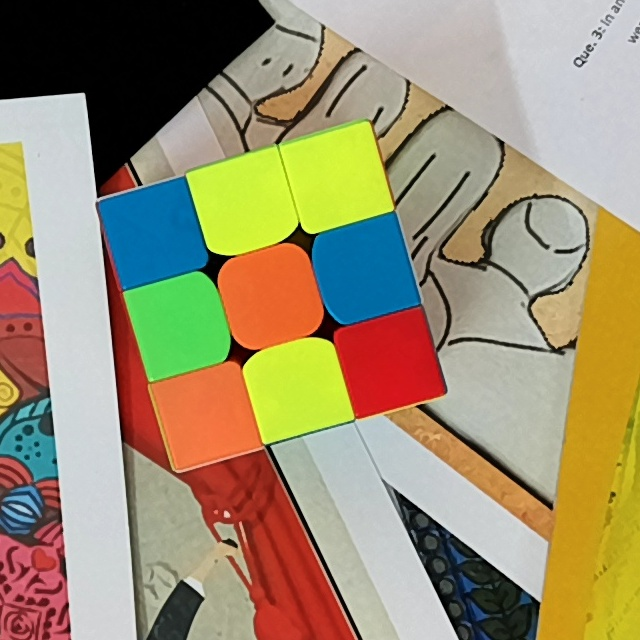tile: (115, 196, 189, 269), (232, 261, 308, 332), (141, 286, 213, 359), (356, 325, 428, 398), (298, 143, 373, 213), (329, 233, 399, 307), (206, 167, 281, 235), (170, 380, 243, 449), (260, 354, 335, 421)
